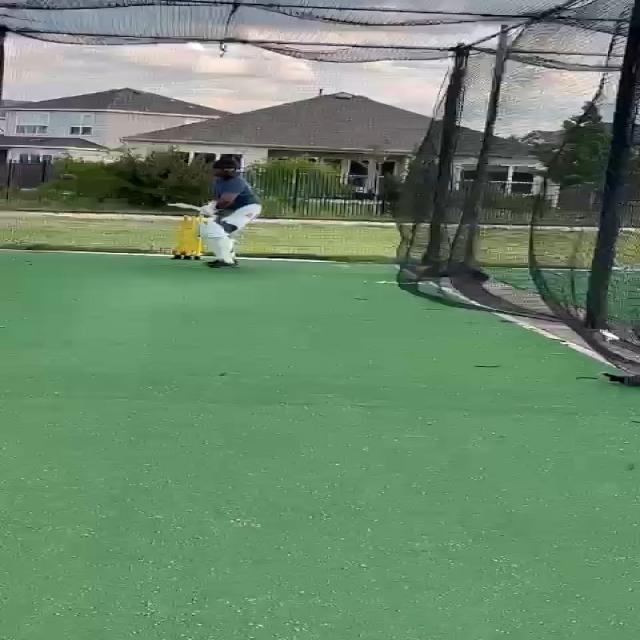batsman: (163, 158, 267, 270)
